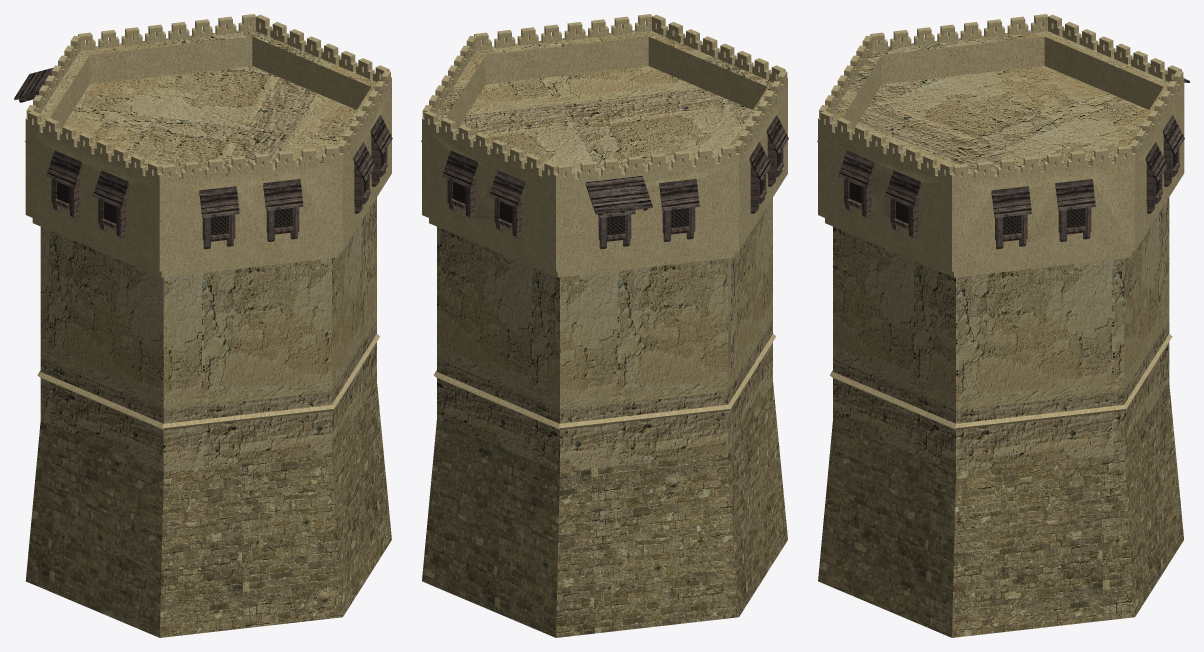
Rendered from Tower.fbx.
The picture shows the model from 3 angles, left to right: view 1: azimuth 30°, elevation 25°; view 2: azimuth 150°, elevation 25°; view 3: azimuth 270°, elevation 25°; orthographic projection.
Visible parts, largest first — view 1: Tower; view 2: Tower; view 3: Tower.
Part boxes in pixels (x1,y1,x2,y2): Tower: [14, 14, 392, 637]; Tower: [421, 14, 788, 637]; Tower: [817, 14, 1189, 637].
Bounding box in the file's own units: 12799 × 17952 × 12913.
